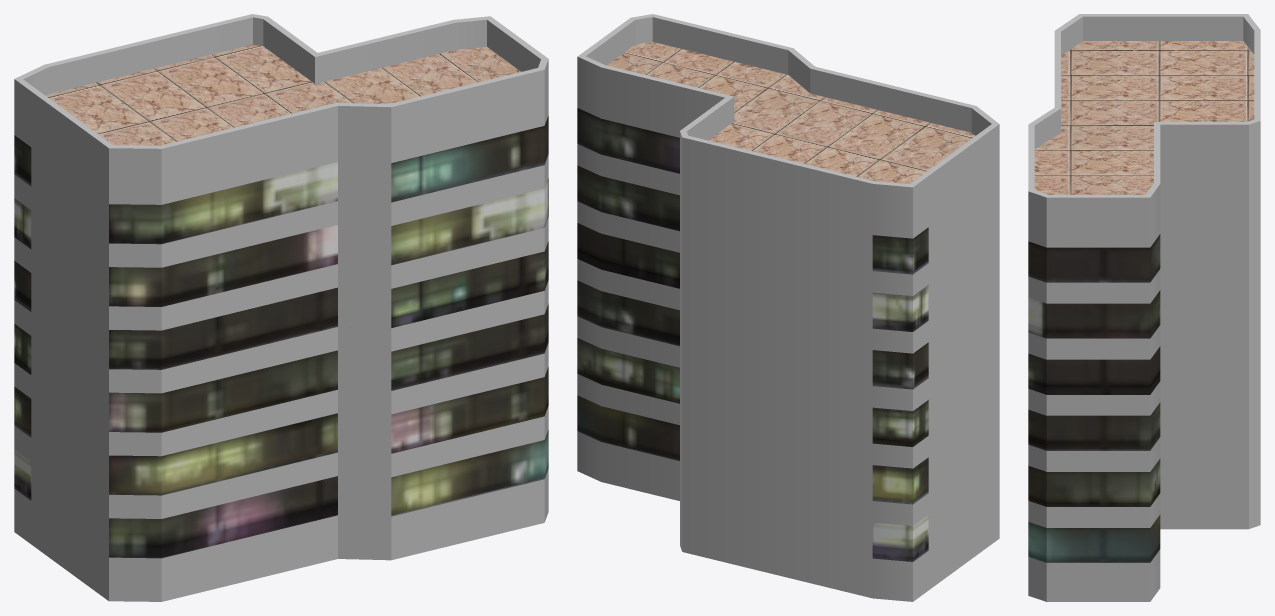
Rendered from hirise_08_6f.fbx.
3 views of the same model, side by side, from view 1: azimuth 30°, elevation 25°; view 2: azimuth 150°, elevation 25°; view 3: azimuth 270°, elevation 25° (orthographic). The views are drawn at different scales.
Visible parts, largest first — view 1: hirise_08_6f; view 2: hirise_08_6f; view 3: hirise_08_6f.
Boxes of the visible parts, bbox=[...] form: hirise_08_6f: bbox=[14, 14, 548, 601]; hirise_08_6f: bbox=[577, 14, 999, 601]; hirise_08_6f: bbox=[1028, 14, 1260, 601].
Size of the model in its own units: 22.89 by 23.51 by 12.25.
